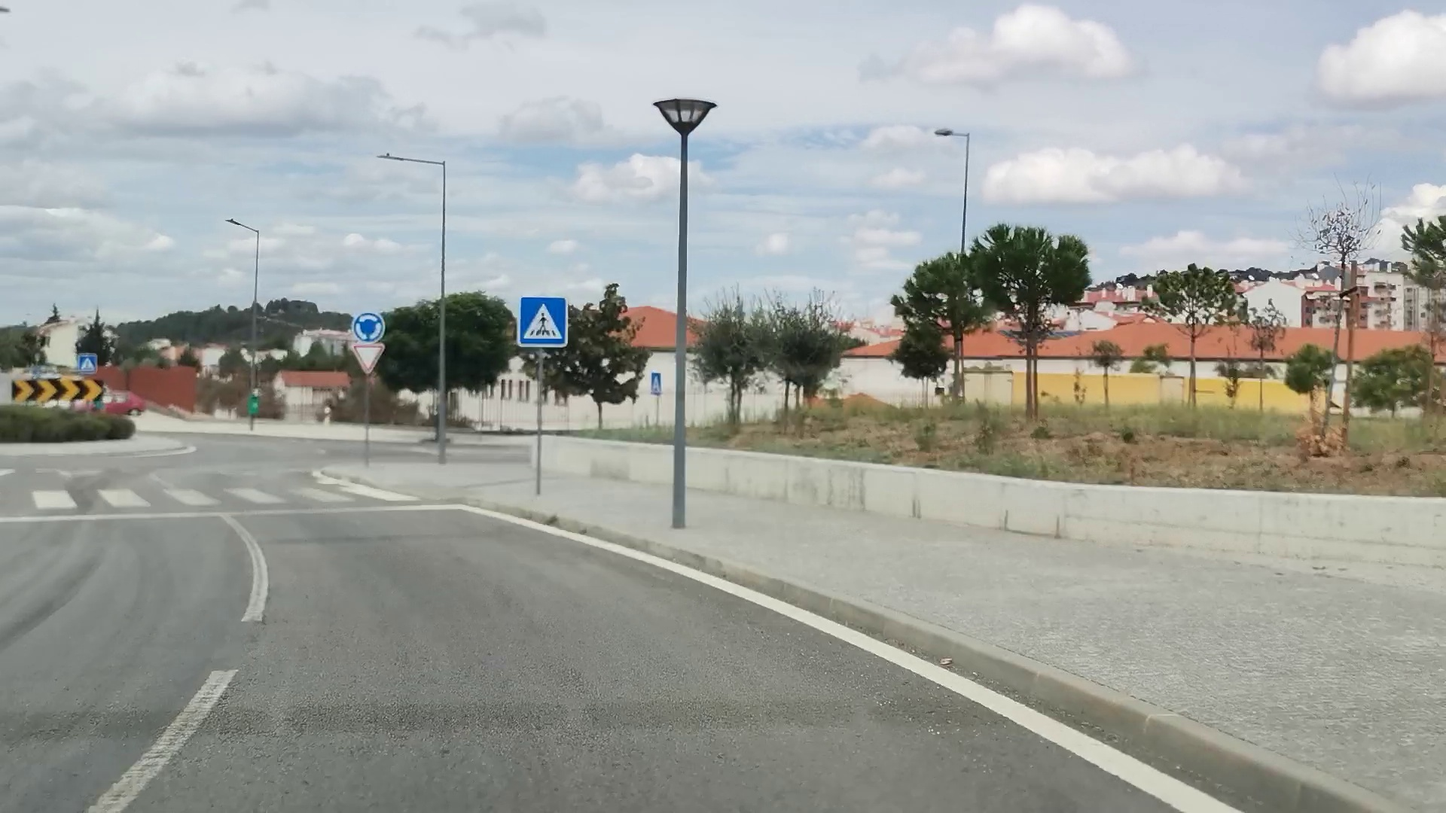Stairs: (28, 483, 422, 511)
